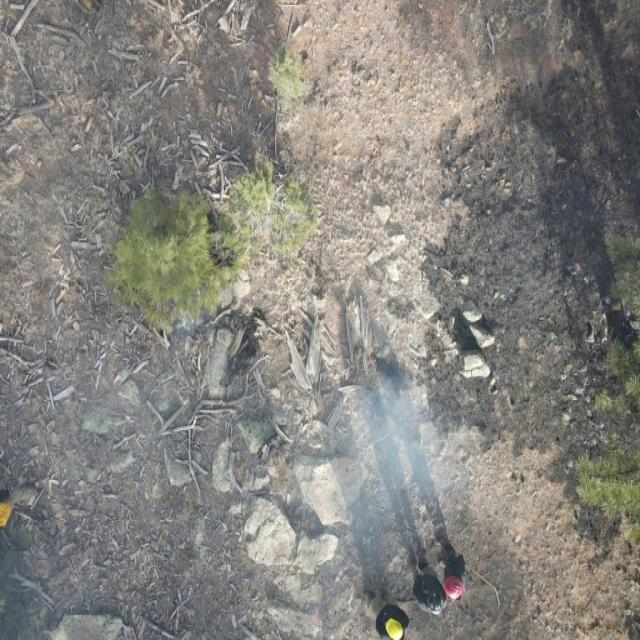fire: (363, 409, 392, 427), (364, 344, 380, 368)
smoke: (0, 314, 233, 640), (324, 318, 482, 557)
